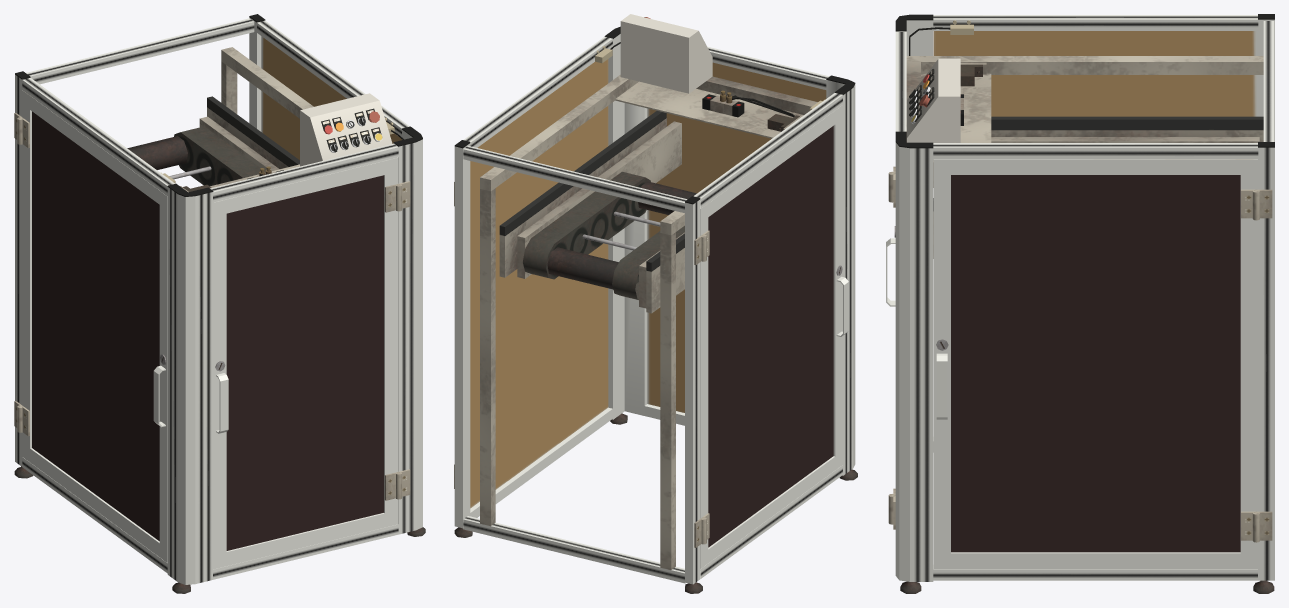
Rendered from kongzhi03.FBX.
3 renders of one model, left to right at view 1: azimuth 30°, elevation 25°; view 2: azimuth 150°, elevation 25°; view 3: azimuth 270°, elevation 25°, orthographic. The views are drawn at different scales.
Parts seen in each view (by area): view 1: YF_Model_kongzhi03; view 2: YF_Model_kongzhi03; view 3: YF_Model_kongzhi03.
Boxes of the visible parts, box(x1,y1,x2,y2) form: YF_Model_kongzhi03: box(14, 14, 425, 593); YF_Model_kongzhi03: box(454, 14, 857, 593); YF_Model_kongzhi03: box(886, 14, 1274, 593).
Size of the model in its own units: 69.57 by 111 by 81.25.
